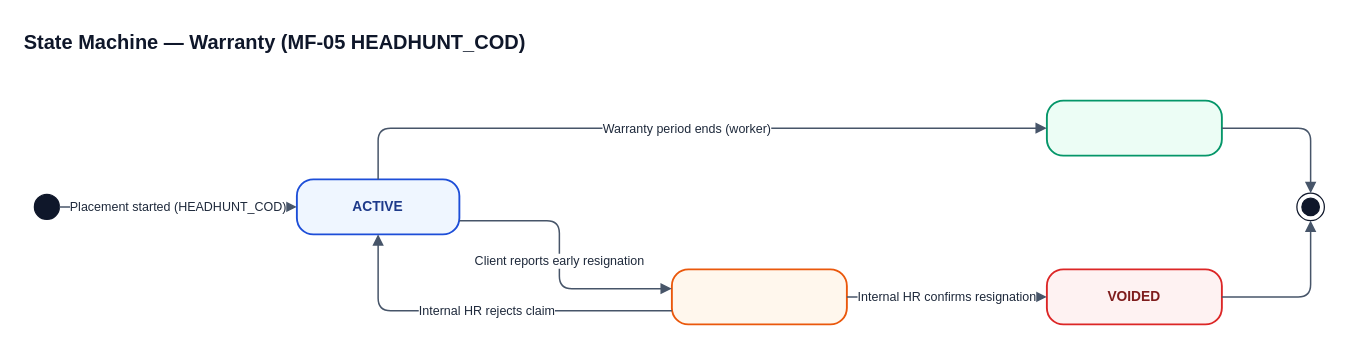
The diagram is 1368 pixels wide and 346 high, and some of its shapes have lost their labels. The centre of each missing label's shape, as x and y in pixels:
CLAIMED: the point at 758,296
PASSED: the point at 1133,127
